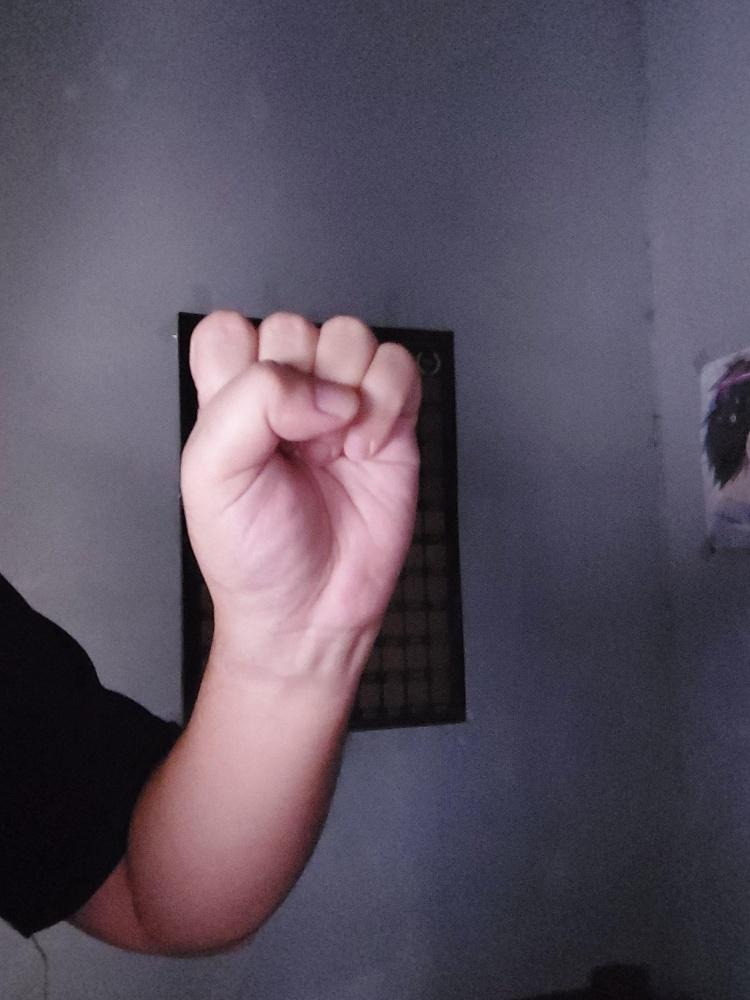s: (180, 307, 419, 621)
